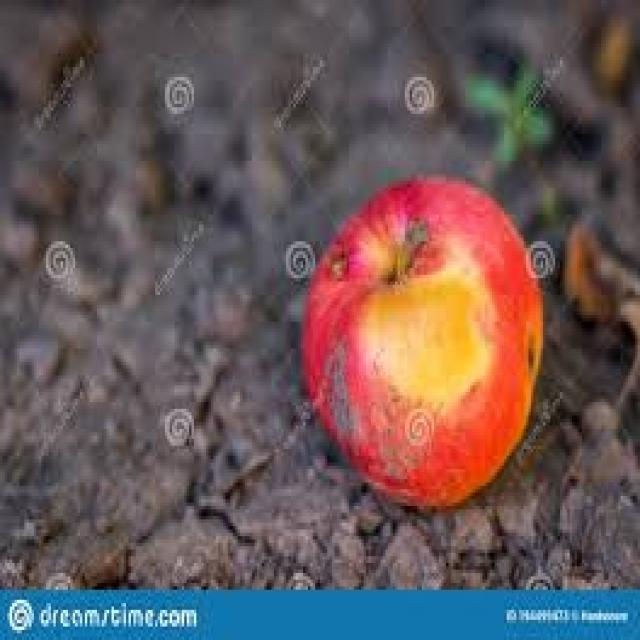organic waste: (298, 174, 541, 513)
